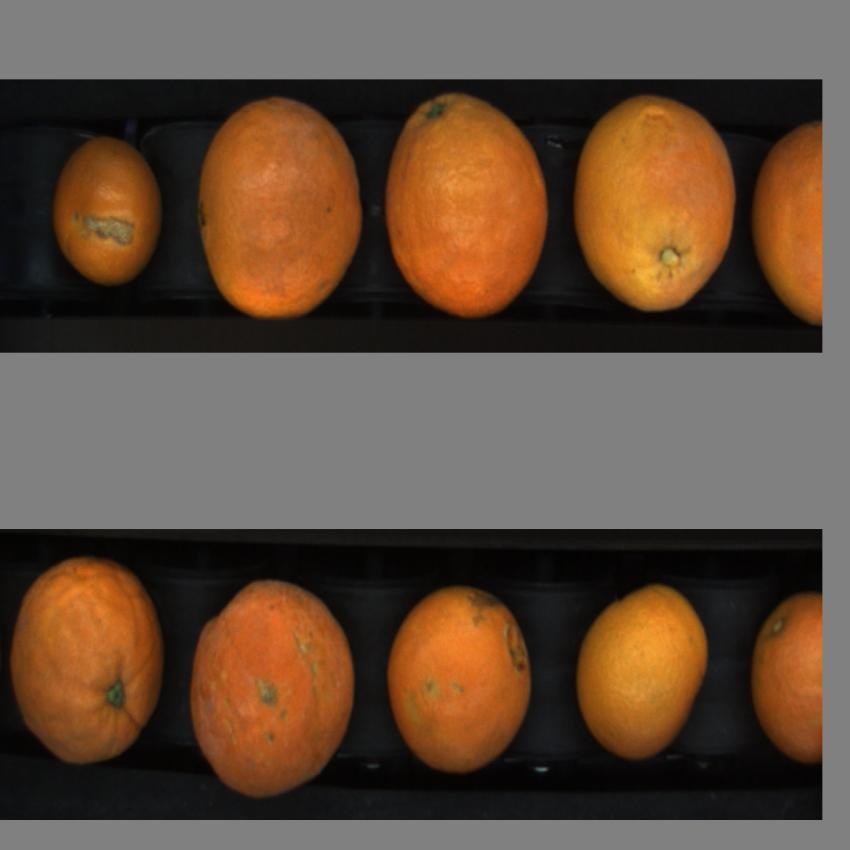Buen estado: (574, 93, 740, 311), (10, 562, 164, 766), (379, 586, 540, 777), (572, 576, 708, 778), (752, 120, 822, 330), (747, 582, 822, 768)
Mal estado: (192, 93, 368, 319), (380, 95, 550, 316), (193, 574, 357, 798), (52, 128, 161, 286)
